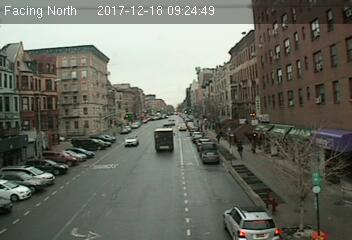car: (222, 205, 279, 240), (201, 151, 219, 163), (124, 135, 139, 146)
ups: (154, 128, 174, 153)
